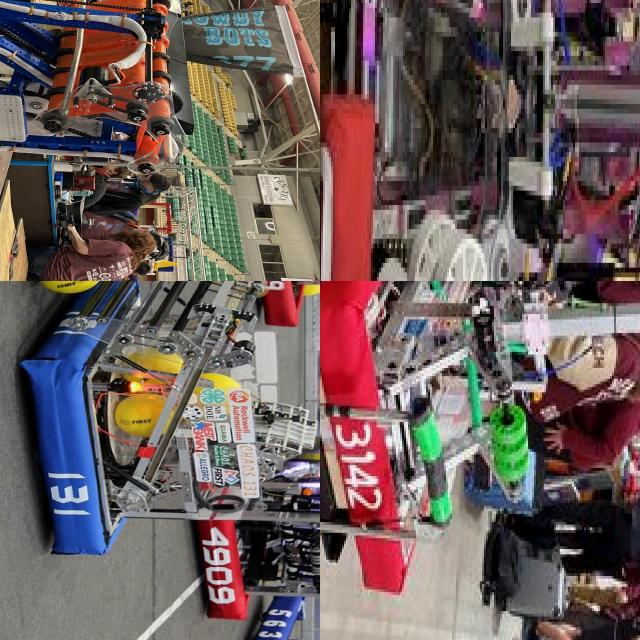FRC-Robots: (320, 281, 640, 619), (6, 281, 320, 590), (320, 0, 640, 281), (0, 0, 181, 225), (190, 453, 320, 626)
